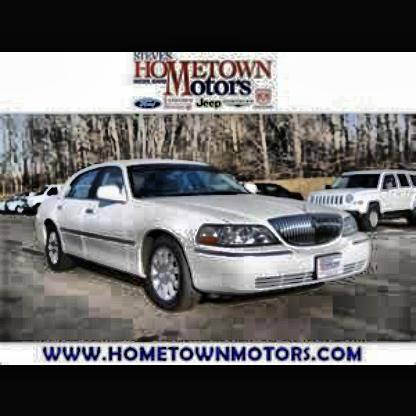Lincoln Town Car Sedan 2011: (34, 159, 370, 310)
